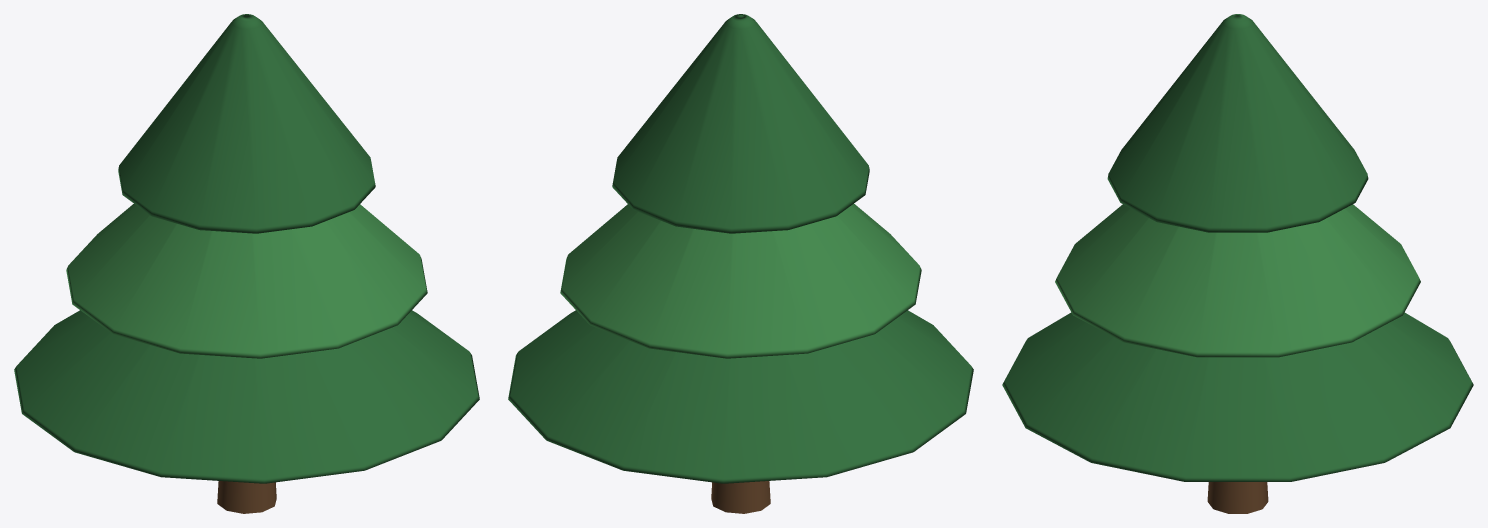
File: prop_tree_conifer_2.glb
3 renders of one model, left to right at view 1: azimuth 30°, elevation 25°; view 2: azimuth 150°, elevation 25°; view 3: azimuth 270°, elevation 25°, orthographic.
Visible parts, largest first — view 1: Tier0, Tier1, Tier2, Trunk; view 2: Tier0, Tier1, Tier2, Trunk; view 3: Tier0, Tier1, Tier2, Trunk.
Boxes of the visible parts, x1,y1,x2,y2 form: Tier0: (14, 310, 479, 483); Tier1: (66, 204, 427, 358); Tier2: (118, 14, 375, 233); Trunk: (217, 481, 276, 513); Tier0: (508, 310, 973, 483); Tier1: (560, 204, 921, 358); Tier2: (612, 14, 869, 233); Trunk: (711, 481, 770, 513); Tier0: (1002, 312, 1473, 481); Tier1: (1055, 204, 1420, 357); Tier2: (1107, 14, 1368, 232); Trunk: (1207, 482, 1268, 513).
Size of the model in its own units: 3.62 by 4.23 by 3.71.
